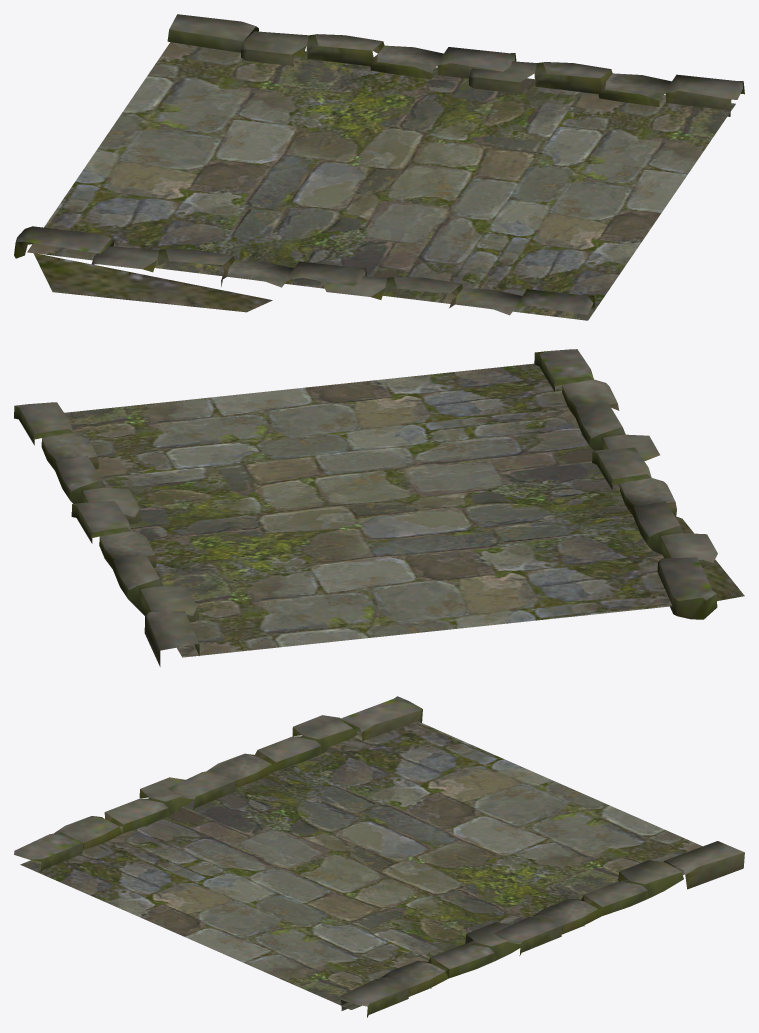
File: S2_Build_XSC076_L2.FBX
The picture shows the model from 3 angles, top to bottom: view 1: azimuth 30°, elevation 25°; view 2: azimuth 150°, elevation 25°; view 3: azimuth 270°, elevation 25°; orthographic projection. The views are drawn at different scales.
Visible parts, largest first — view 1: S2_Build_XSC076_L2; view 2: S2_Build_XSC076_L2; view 3: S2_Build_XSC076_L2.
Boxes of the visible parts, x1,y1,x2,y2 form: S2_Build_XSC076_L2: [14, 14, 744, 320]; S2_Build_XSC076_L2: [14, 349, 744, 666]; S2_Build_XSC076_L2: [14, 696, 744, 1017].
Size of the model in its own units: 2482 by 118 by 2465.
